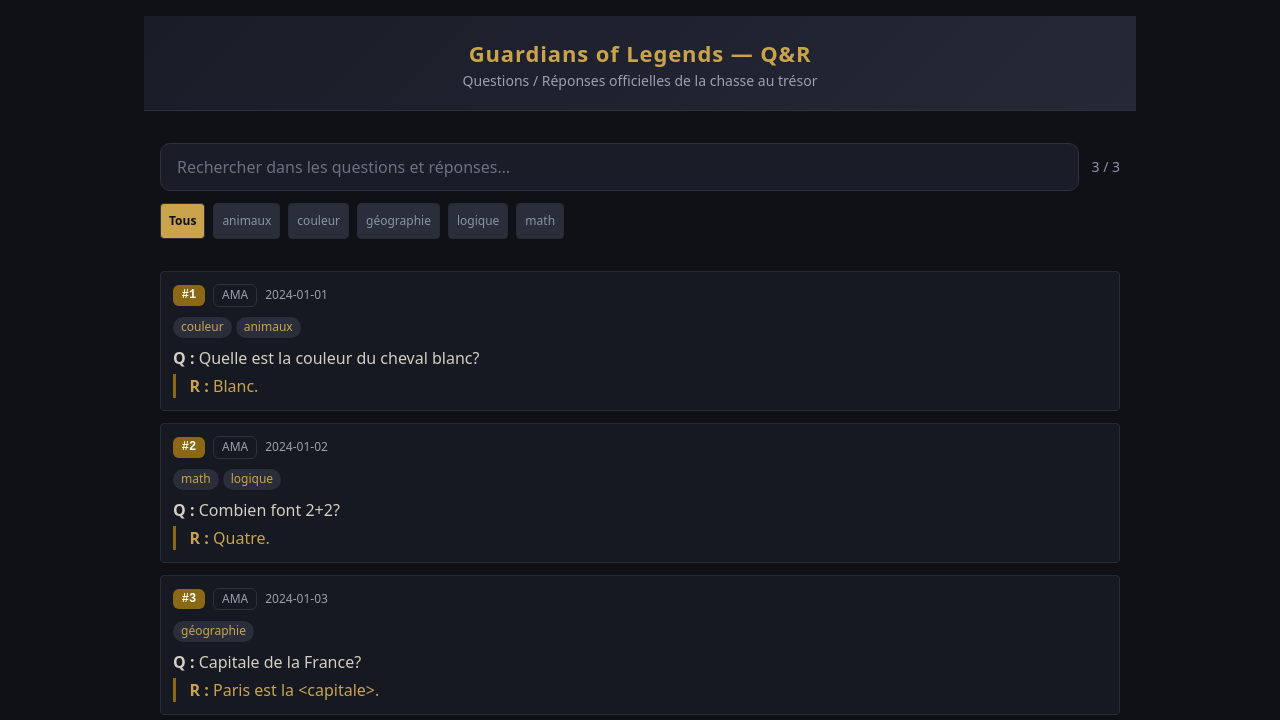
QrSection › filters by search term (case-insensitive)
Expected: the text "Q : Capitale de la France?" is shown, [173, 651, 361, 673]
In the field with placeholder "Rechercher dans les questions et réponses…": (620, 167) [160, 143, 1080, 191], type "paris"
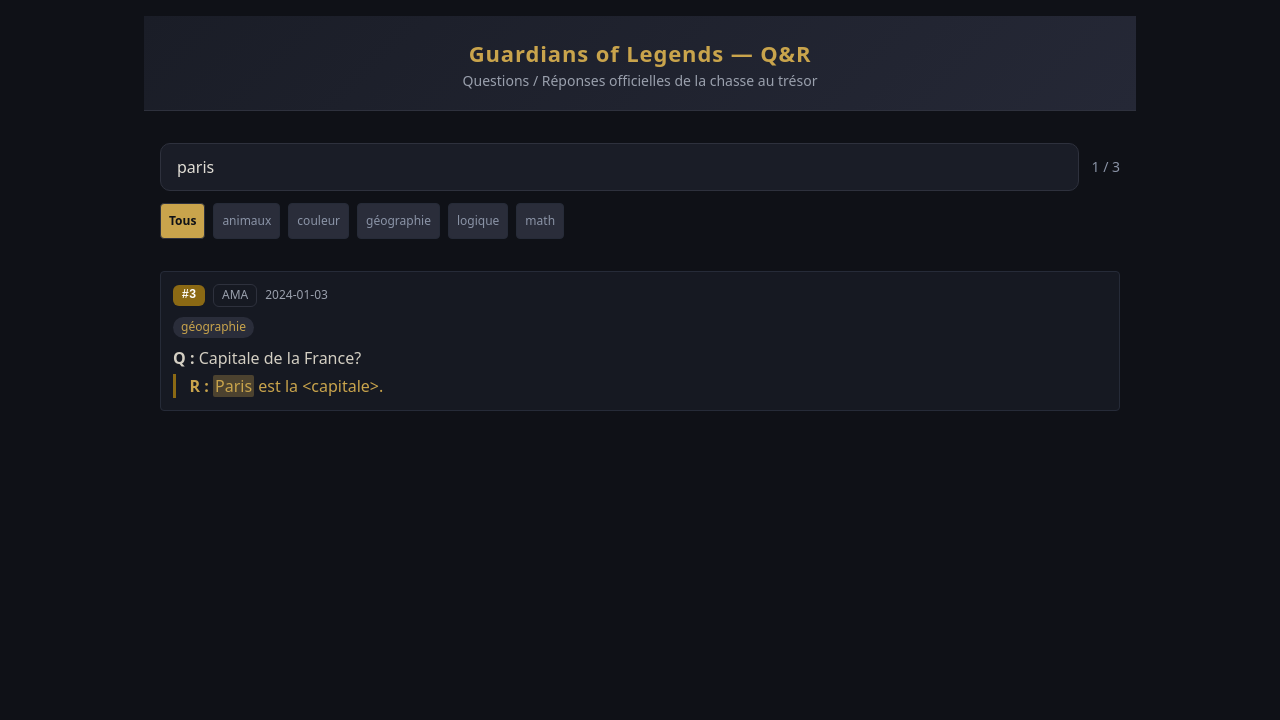
Result: the text "1 / 3" is shown at [1092, 157, 1120, 177]
